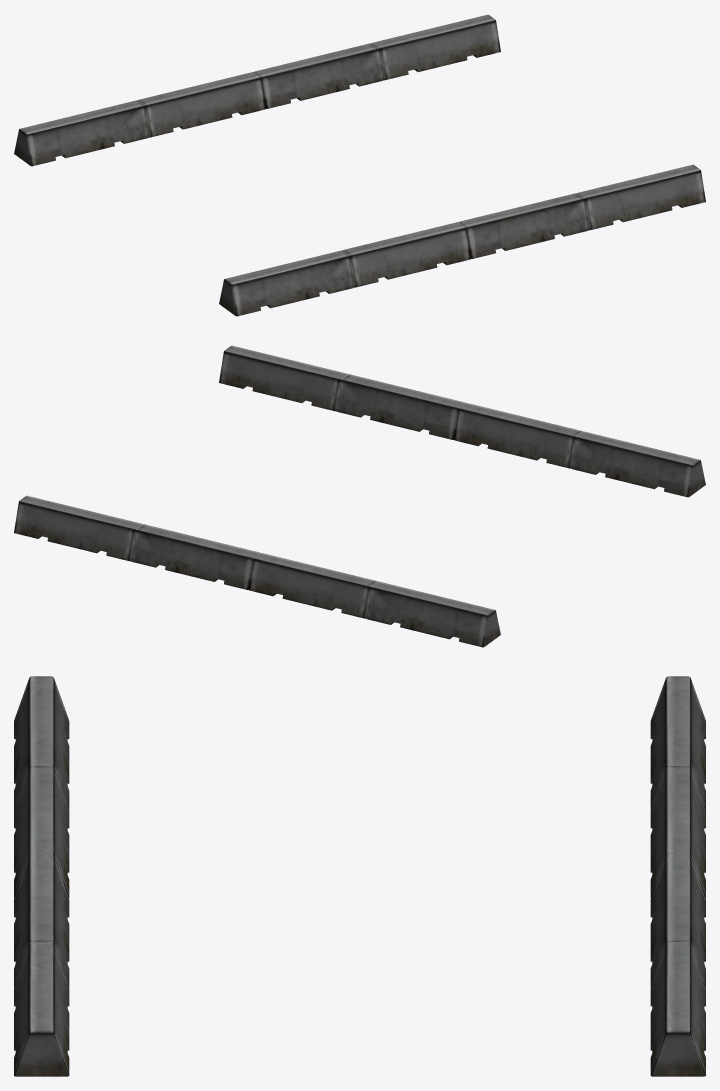
The model's file is bridge_cad.glb.
The picture shows the model from 3 angles, top to bottom: view 1: azimuth 30°, elevation 25°; view 2: azimuth 150°, elevation 25°; view 3: azimuth 270°, elevation 25°; orthographic projection. The views are drawn at different scales.
Visible parts, largest first — view 1: Box01; view 2: Box01; view 3: Box01.
Part boxes in pixels (x1,y1,x2,y2): Box01: (14, 14, 705, 316); Box01: (14, 345, 705, 647); Box01: (14, 676, 705, 1076).
Size of the model in its own units: 25.6 by 1.49 by 21.02.
1 material, 1 textured.
